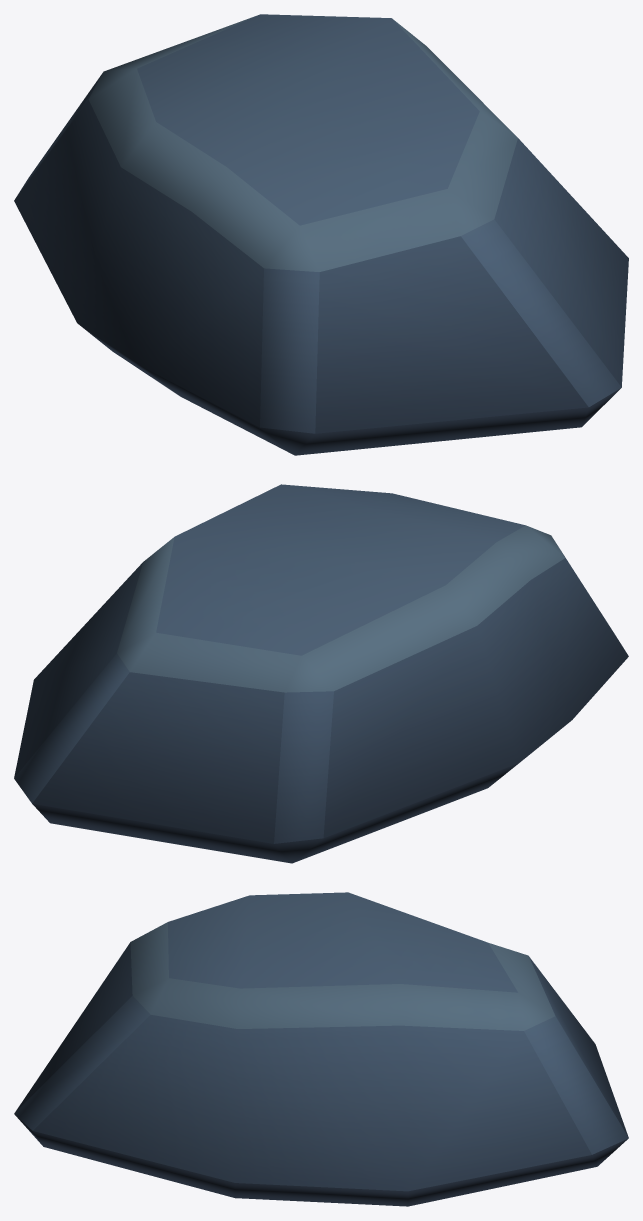
The model's file is rock_03.fbx.
3 renders of one model, top to bottom at view 1: azimuth 30°, elevation 25°; view 2: azimuth 150°, elevation 25°; view 3: azimuth 270°, elevation 25°, orthographic. The views are drawn at different scales.
Parts seen in each view (by area): view 1: rock_03; view 2: rock_03; view 3: rock_03.
Part boxes in pixels (box(x1,y1,x2,y2)): rock_03: box(14, 14, 628, 455); rock_03: box(14, 484, 628, 863); rock_03: box(14, 892, 628, 1206).
Bounding box in the file's own units: 71.53 × 31.33 × 97.93.
1 material, 1 textured.
